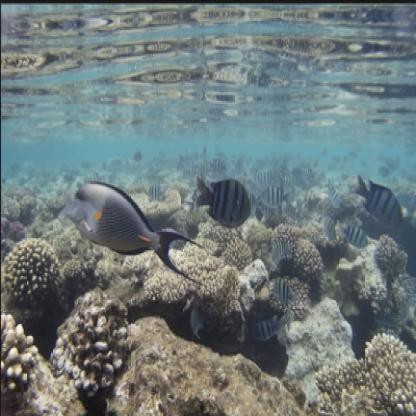Acanthuridae -Surgeonfishes-: (68, 179, 214, 289)
